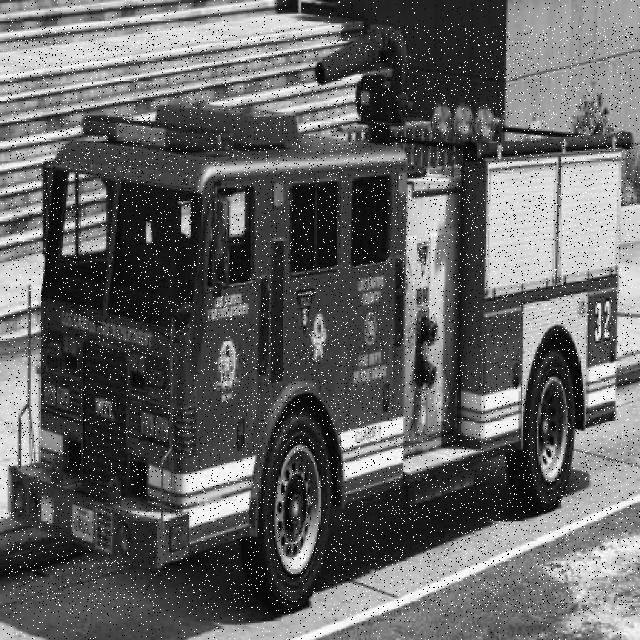Fire Truck: (6, 26, 634, 615)
